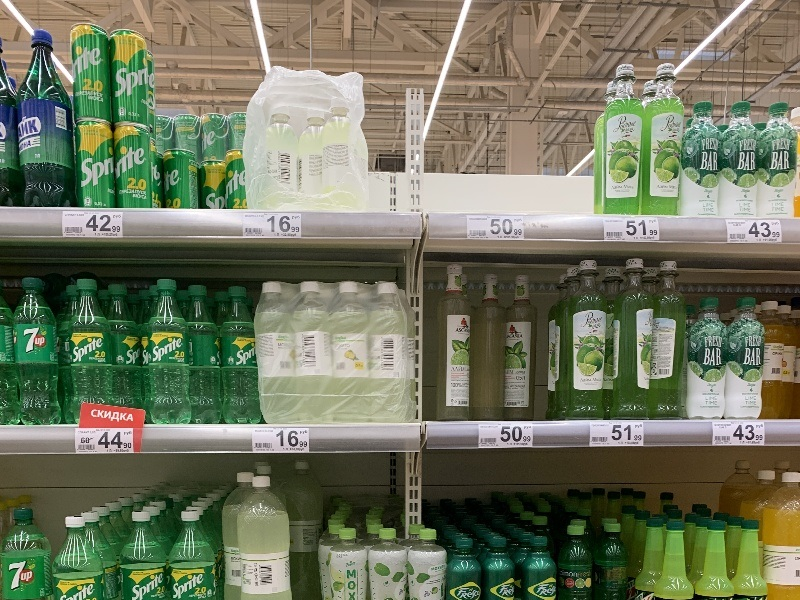lemonade: (11, 26, 81, 212), (9, 277, 66, 432), (140, 276, 197, 425), (61, 275, 115, 432), (216, 285, 268, 429)
